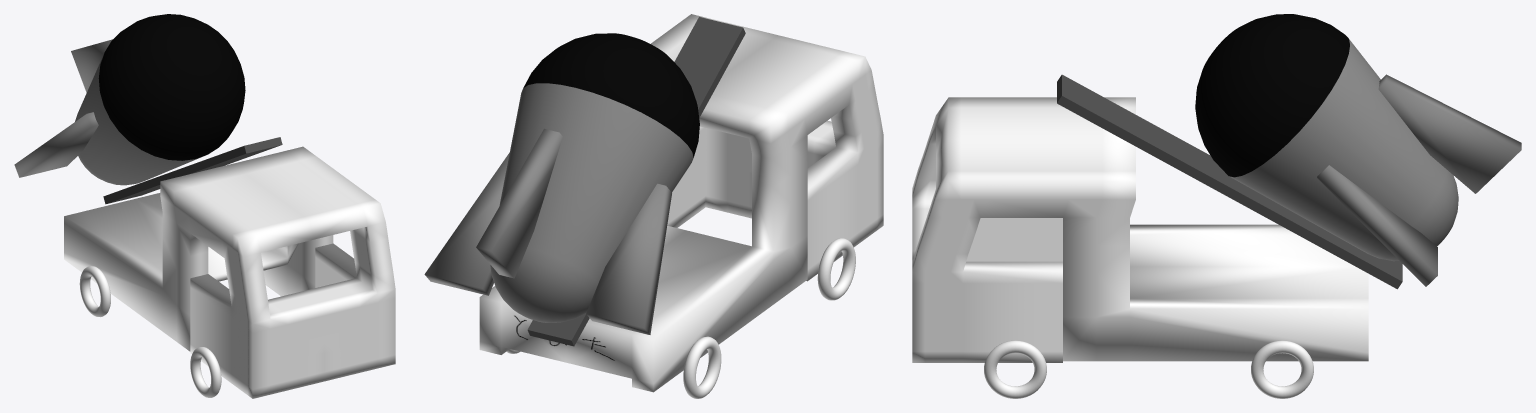
The model's file is TOYOTA.fbx.
3 views of the same model, side by side, from view 1: azimuth 30°, elevation 25°; view 2: azimuth 150°, elevation 25°; view 3: azimuth 270°, elevation 25° (orthographic). The views are drawn at different scales.
Parts seen in each view (by area): view 1: AtomicTOYOTA; view 2: AtomicTOYOTA; view 3: AtomicTOYOTA.
Boxes of the visible parts, <box> form: AtomicTOYOTA: <box>14,14,395,398</box>; AtomicTOYOTA: <box>424,14,883,398</box>; AtomicTOYOTA: <box>912,14,1521,398</box>.
Size of the model in its own units: 996 by 1446 by 2408.
